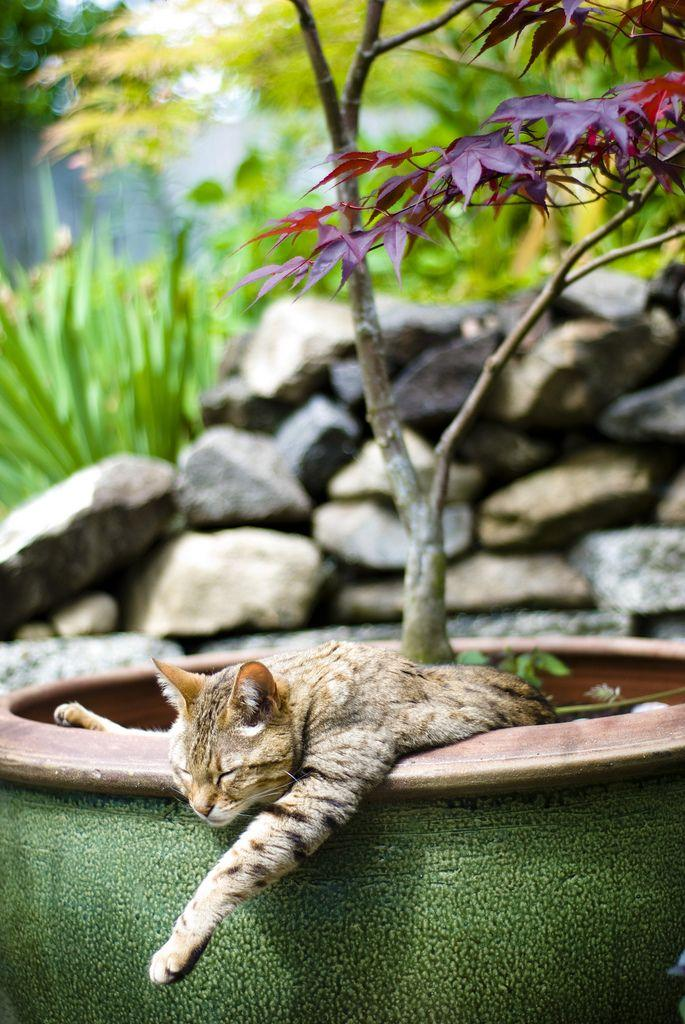kedo: (54, 646, 556, 983)
